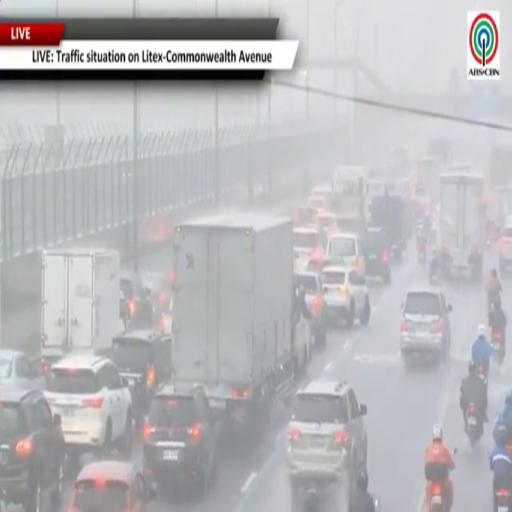car: (286, 381, 367, 502), (45, 354, 133, 455), (143, 383, 218, 494), (0, 389, 65, 511), (111, 330, 171, 421), (69, 460, 157, 511), (400, 290, 452, 364), (321, 266, 371, 327), (296, 271, 326, 347), (120, 271, 154, 328), (0, 349, 44, 389), (327, 233, 365, 277), (363, 228, 391, 283), (292, 227, 327, 270), (143, 272, 173, 318), (306, 255, 344, 273), (499, 221, 511, 273), (292, 205, 317, 227), (159, 297, 173, 334), (316, 212, 337, 234), (310, 184, 332, 199), (307, 196, 329, 210)
motorcycle: (426, 471, 450, 511), (466, 404, 483, 446), (429, 483, 449, 511), (492, 330, 504, 364), (495, 489, 511, 511), (477, 364, 487, 387), (418, 241, 426, 266), (0, 490, 7, 511)
truck: (172, 213, 305, 434), (41, 250, 120, 367), (438, 166, 485, 279), (369, 191, 405, 262), (331, 166, 367, 234), (487, 146, 511, 241), (415, 157, 441, 216), (489, 146, 511, 187)
